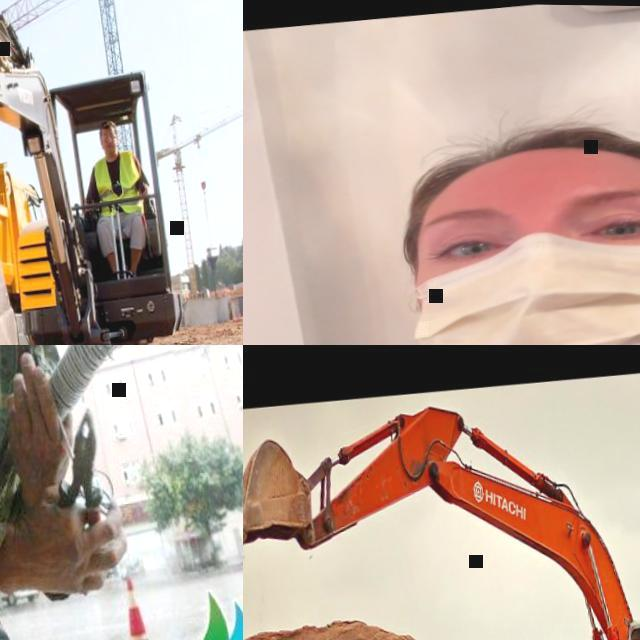machinery: (243, 365, 640, 640), (0, 0, 243, 345), (0, 57, 70, 345)
mask: (405, 227, 640, 345)
no_helmet: (399, 112, 640, 216), (99, 118, 115, 130)
no_mask: (104, 142, 118, 156)
no_vest: (0, 345, 84, 640), (92, 148, 144, 211)
person: (243, 89, 640, 345), (0, 345, 183, 640), (73, 113, 158, 278)
safety_cone: (116, 569, 157, 640)
vehicle: (0, 569, 41, 609)
